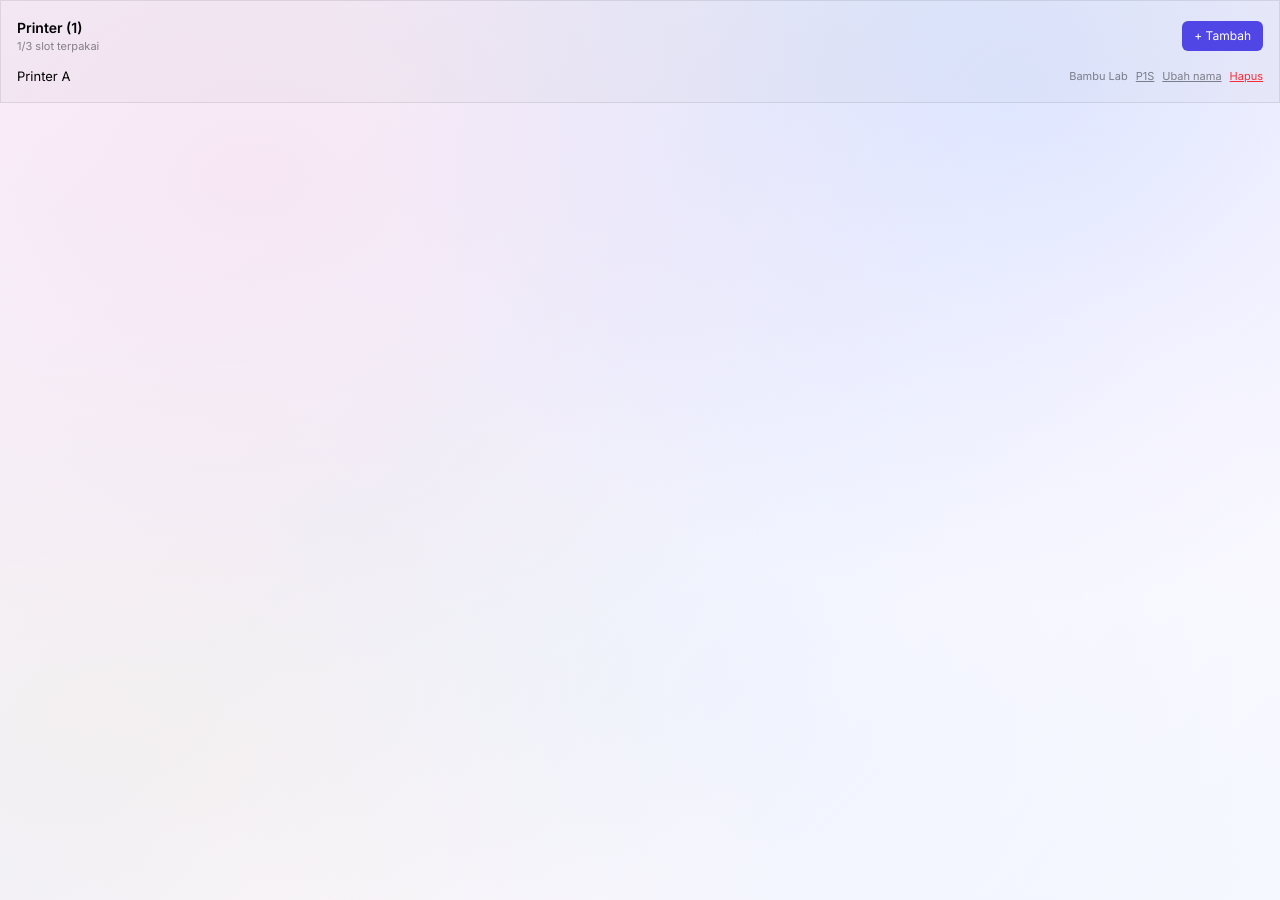
Test case: DeviceList › rename: PATCH /api/devices/{id} dengan label baru + update list lokal
The width and height of the screenshot is (1280, 900).
Expected: the text "Printer A" is shown, [17,68,70,84]
Click the button with aria-label "ubah nama printer a". click: (1192,76)
box: [1162,68,1222,84]
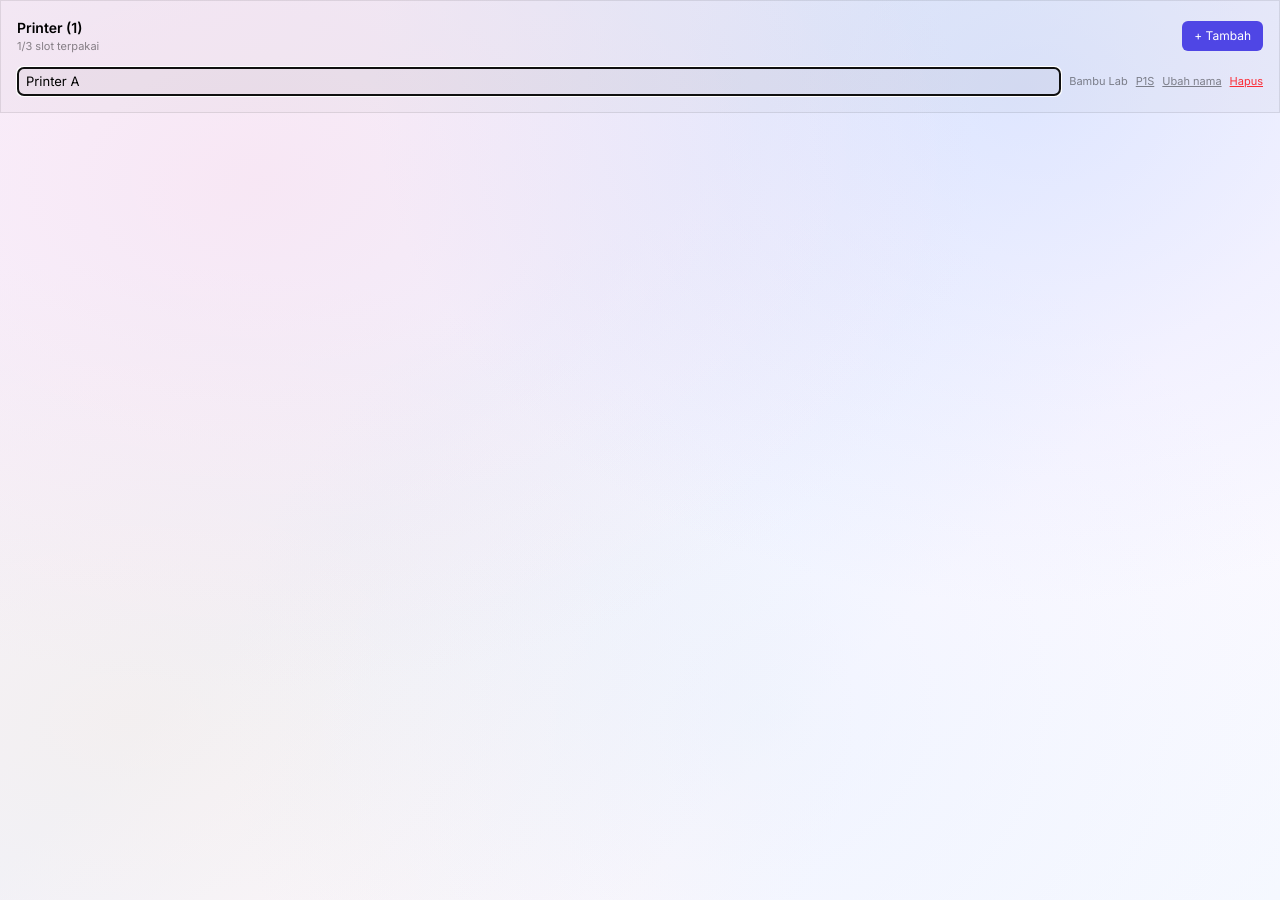
Replace the text in the field named "Nama printer Printer A" with "Printer Baru". click: (539,81)
box: [17,66,1061,96]
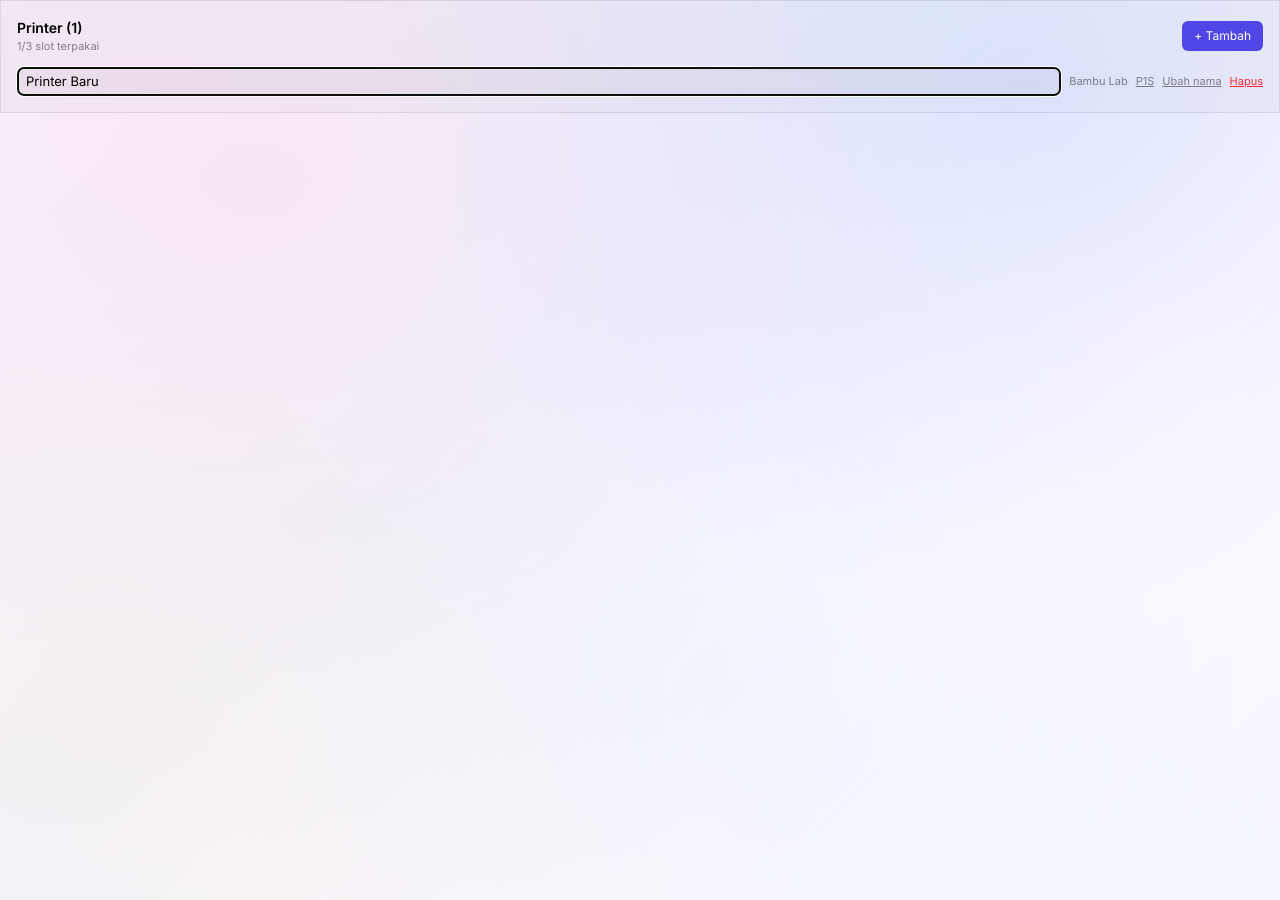
Press Enter in the field named "Nama printer Printer A", box [17,66,1061,96]
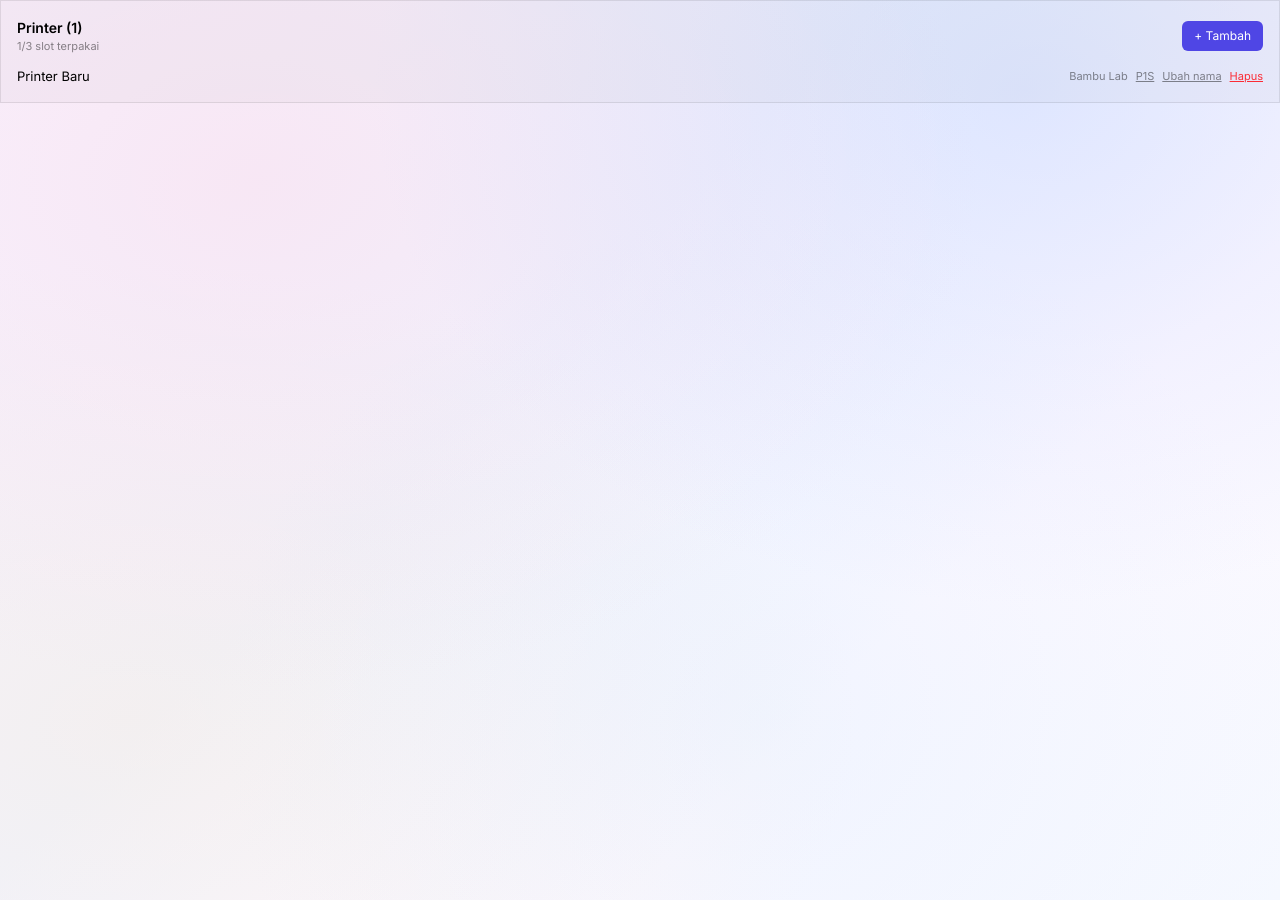
Expected: the text "Printer Baru" is shown, [17,68,90,84]
